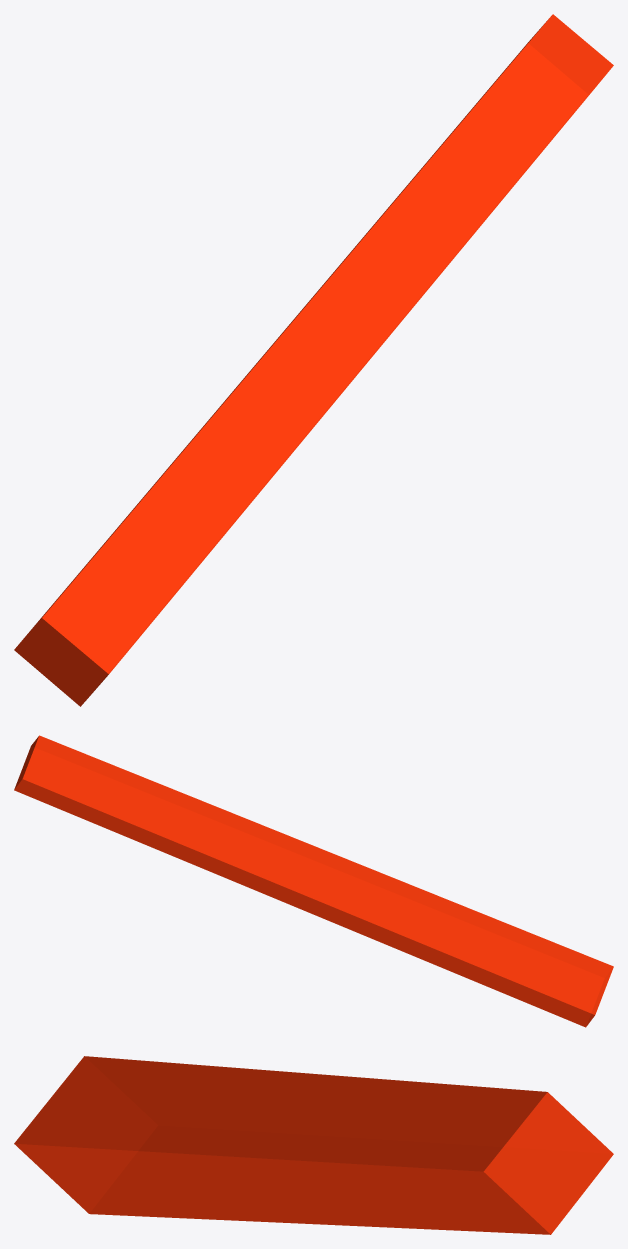
File: Event_421115418_EBrechit_19.fbx
3 renders of one model, top to bottom at view 1: azimuth 30°, elevation 25°; view 2: azimuth 150°, elevation 25°; view 3: azimuth 270°, elevation 25°, orthographic. The views are drawn at different scales.
Parts seen in each view (by area): view 1: Model; view 2: Model; view 3: Model.
Part boxes in pixels (x1=…): Model: x1=14, y1=14, x2=613, y2=706; Model: x1=14, y1=735, x2=613, y2=1027; Model: x1=14, y1=1056, x2=613, y2=1234.
Bounding box in the file's own units: 0.6388 × 0.3443 × 0.3479.
